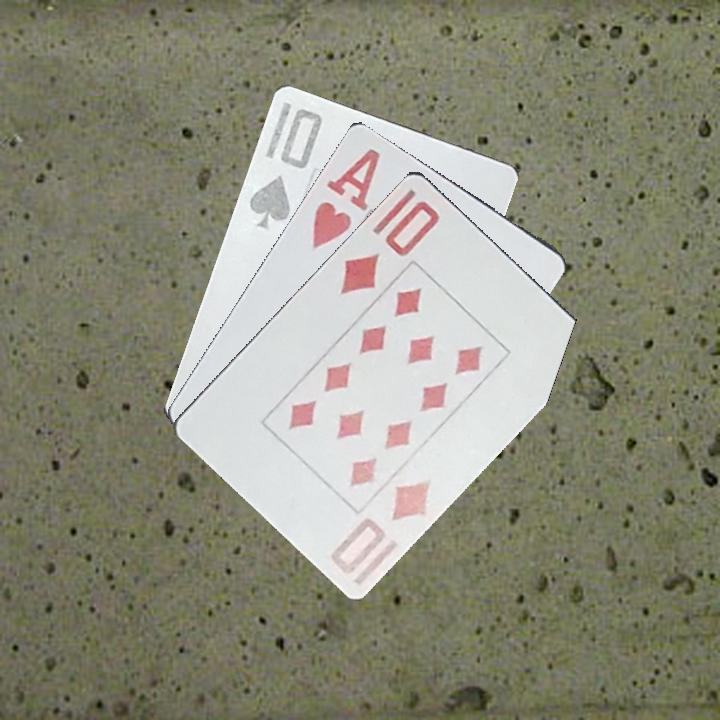Ah: (308, 144, 383, 251)
Td: (327, 474, 435, 577), (334, 196, 443, 297)
Ts: (245, 104, 325, 231)
